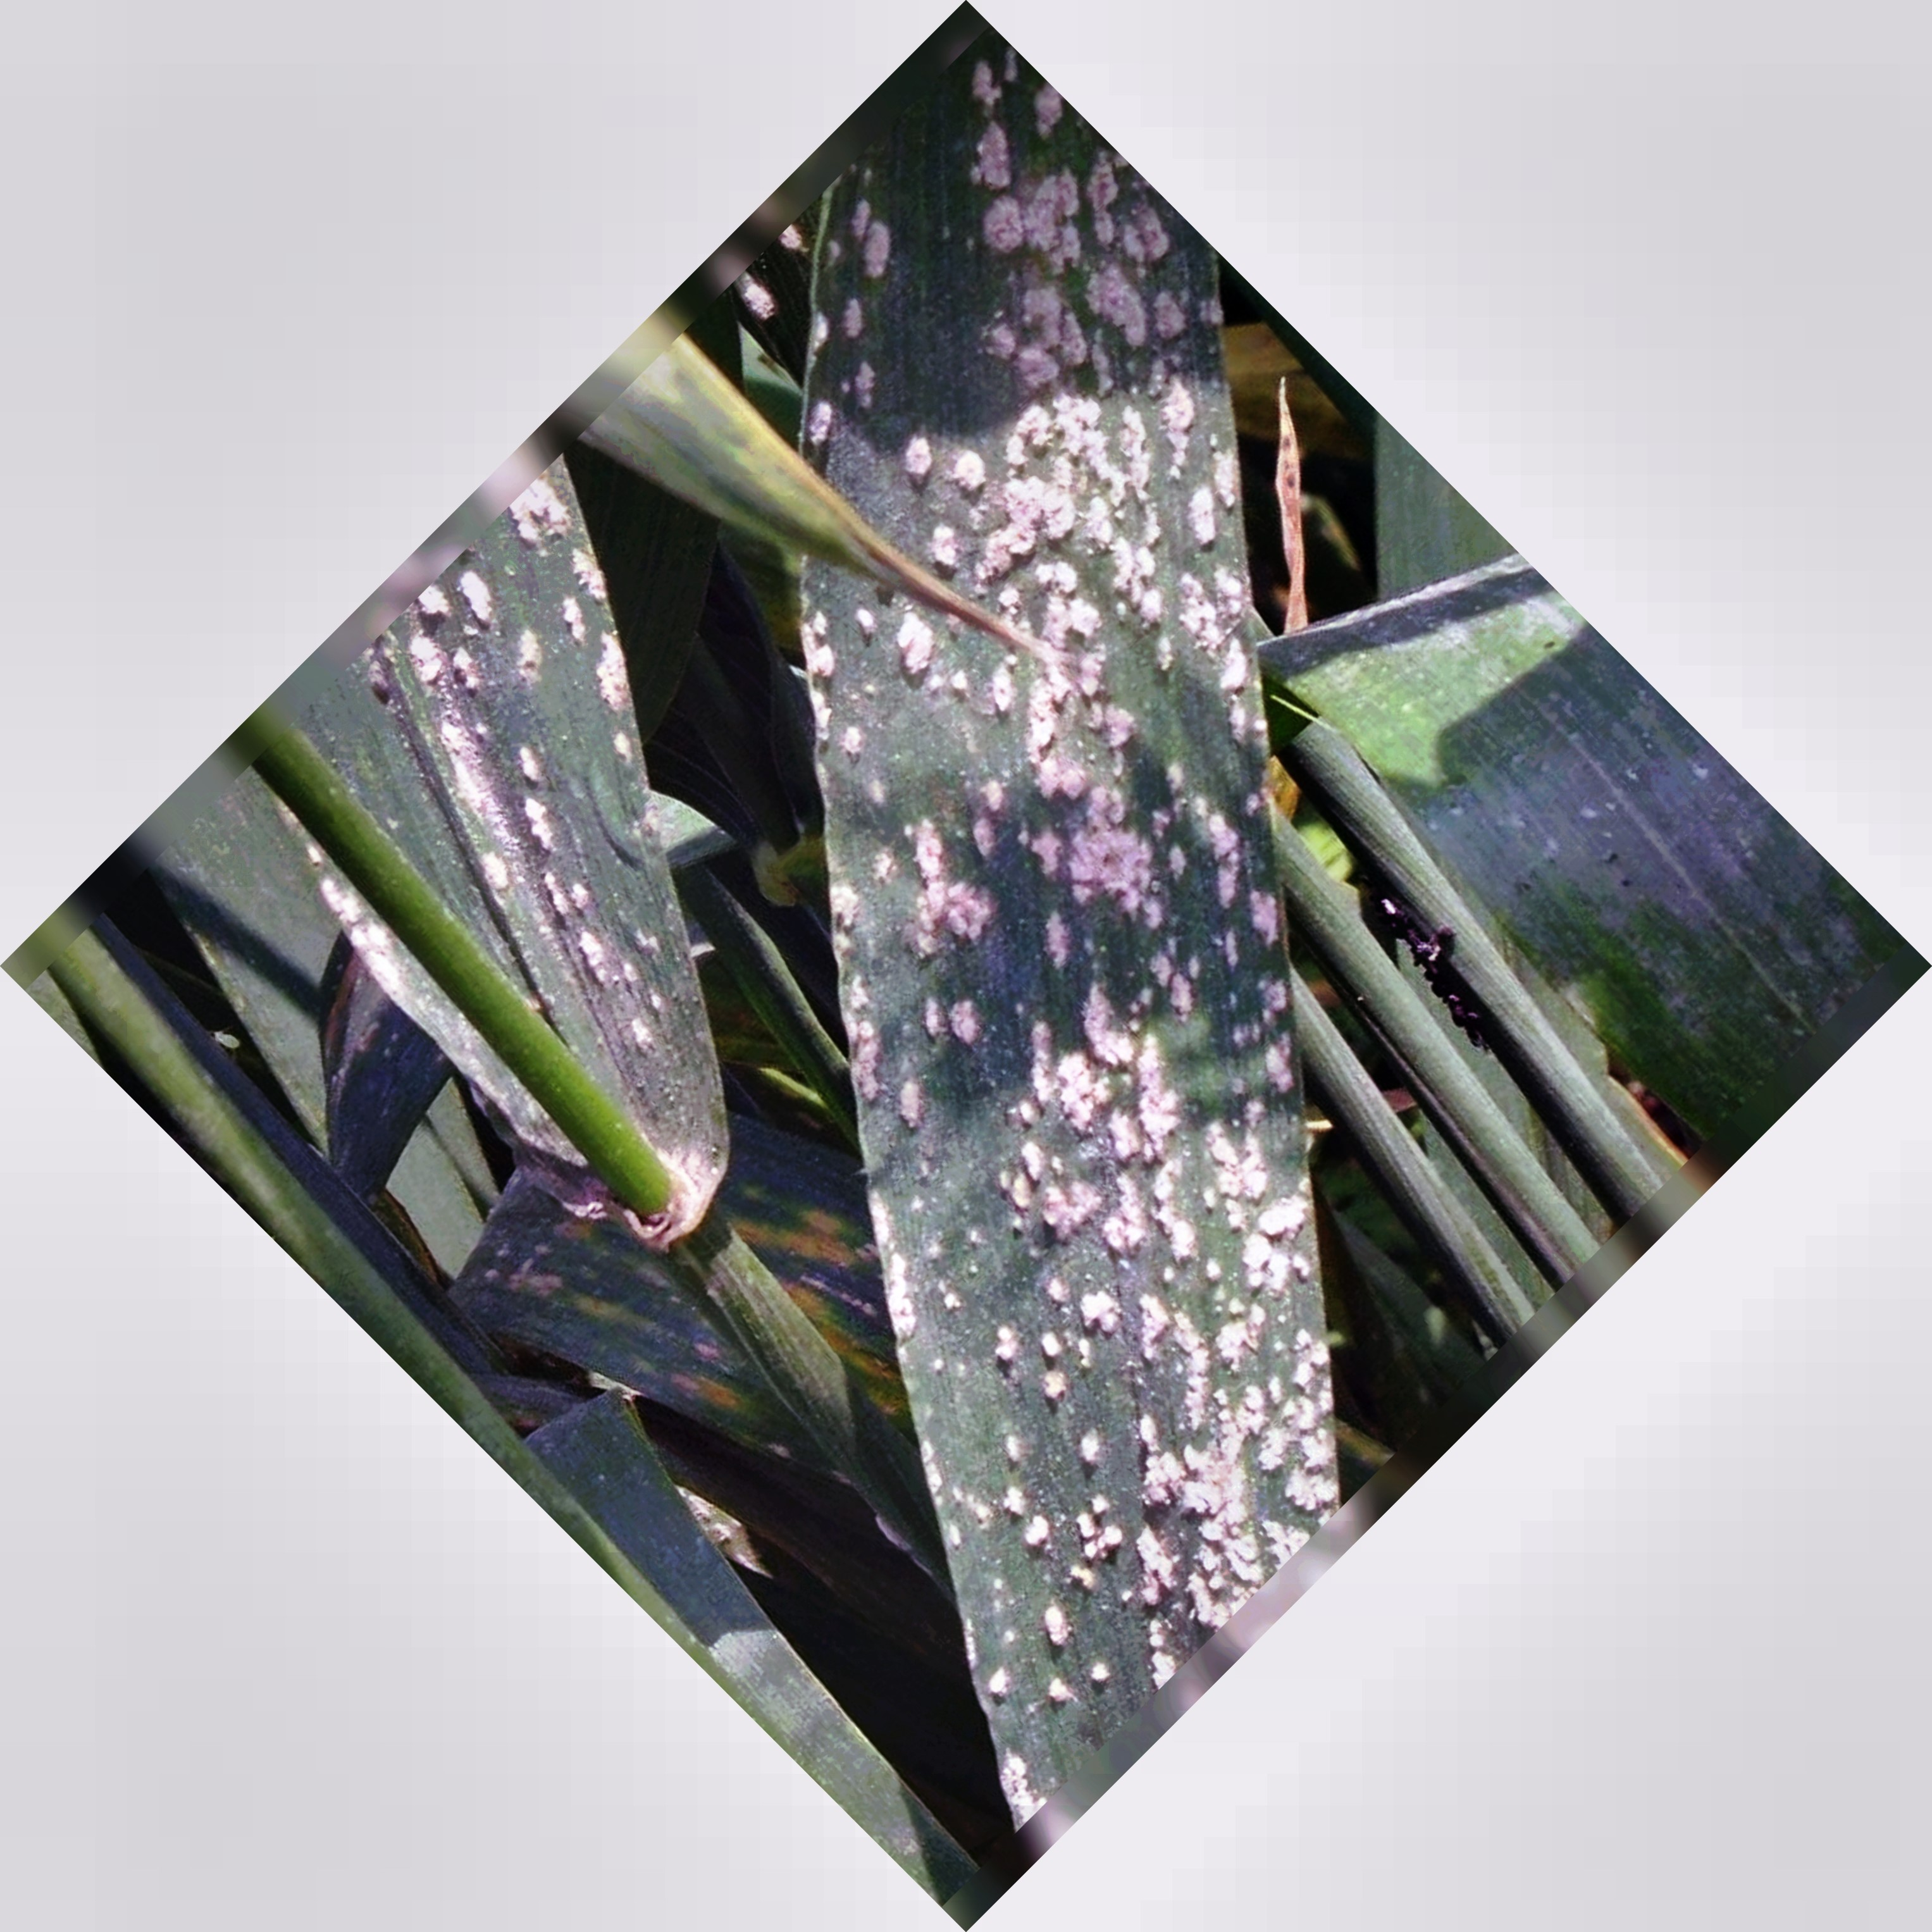Powdery Mildew: (798, 244, 1341, 1557)
